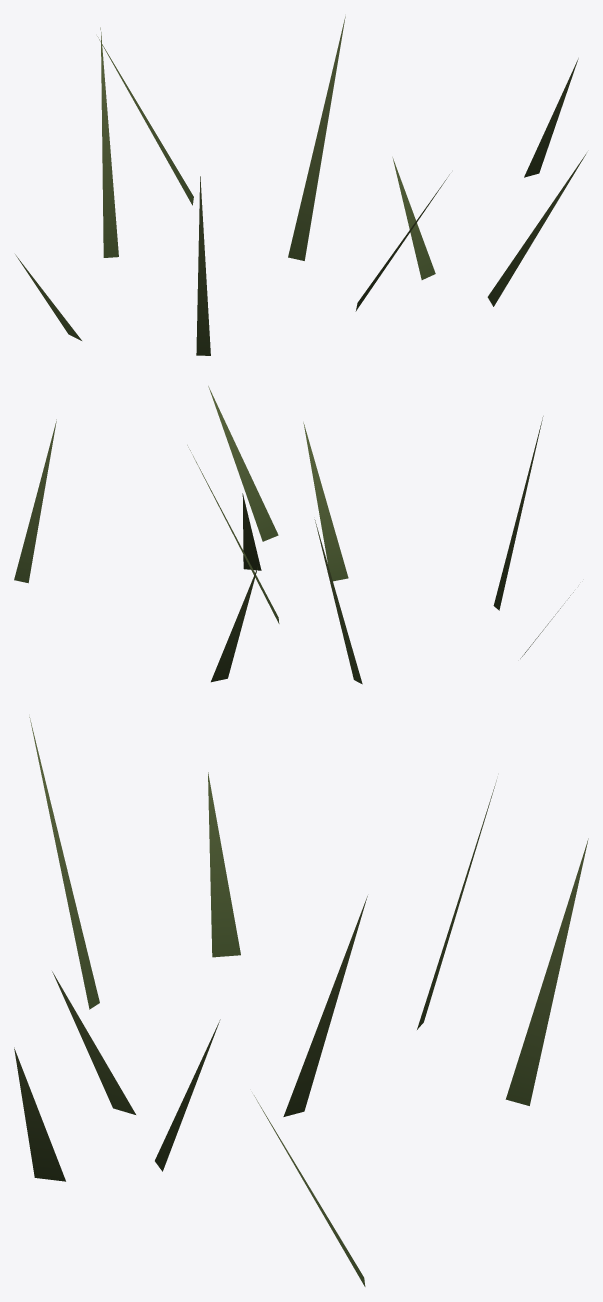
File: lawn-grass.glb
3 views of the same model, one above another, from view 1: azimuth 30°, elevation 25°; view 2: azimuth 150°, elevation 25°; view 3: azimuth 270°, elevation 25° (orthographic). The views are drawn at different scales.
Visible parts, largest first — view 1: short-lawn-grass; view 2: short-lawn-grass; view 3: short-lawn-grass.
Boxes of the visible parts, x1=… form: short-lawn-grass: x1=15, y1=16, x2=586, y2=355; short-lawn-grass: x1=14, y1=386, x2=573, y2=684; short-lawn-grass: x1=14, y1=717, x2=588, y2=1286.
Size of the model in its own units: 0.241 by 0.0822 by 0.1559.
